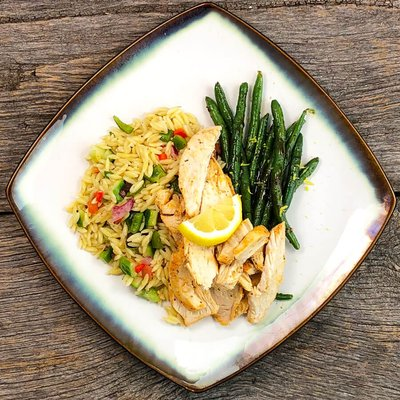sushi: (4, 19, 398, 395)
